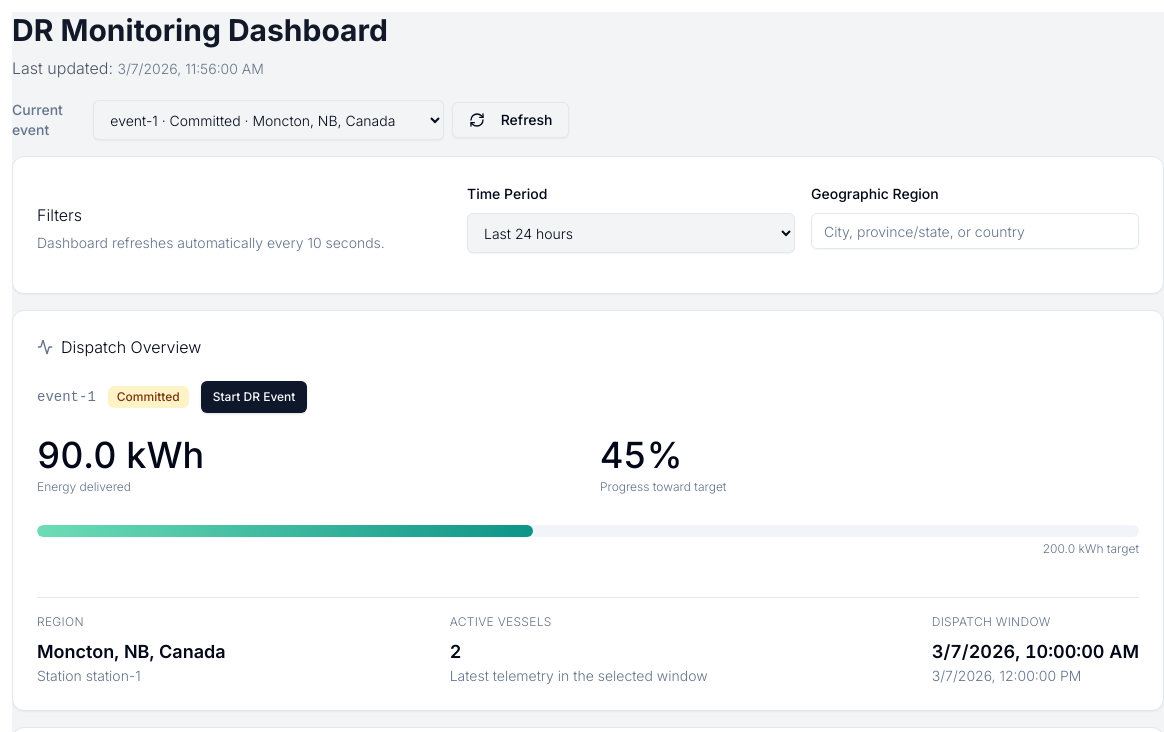
Scenario: PowerDashboard › starts a committed event and refreshes the same dashboard view
Click the button "Start DR Event": point(254, 397) [201,381,307,413]
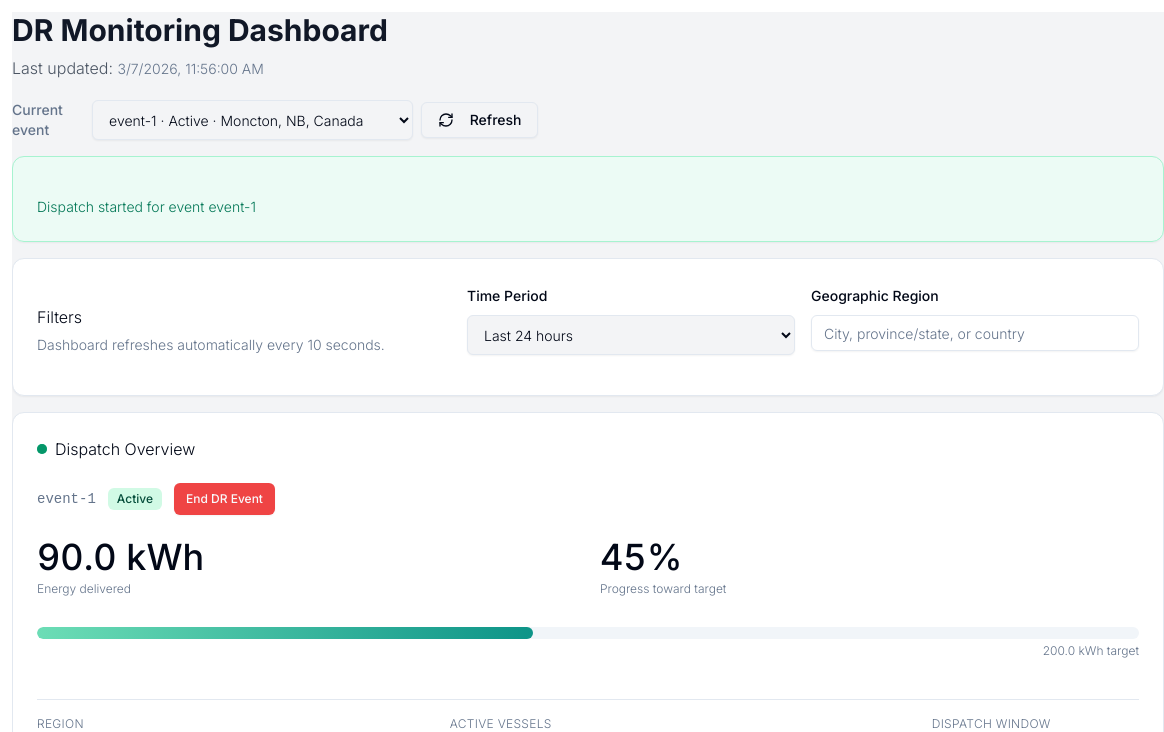
Expected: the text "Dispatch started for event event-1" is shown, [37,198,256,215]
Expected: the button "Start DR Event" is gone
